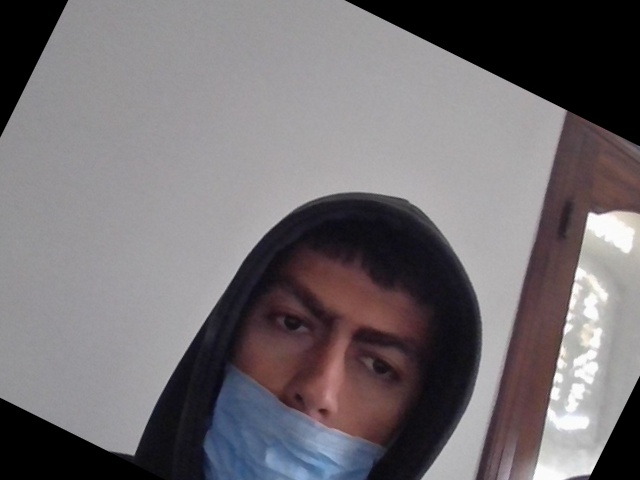mask_weared_incorrect: (206, 210, 435, 480)
